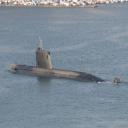submarine: (11, 52, 121, 84)
